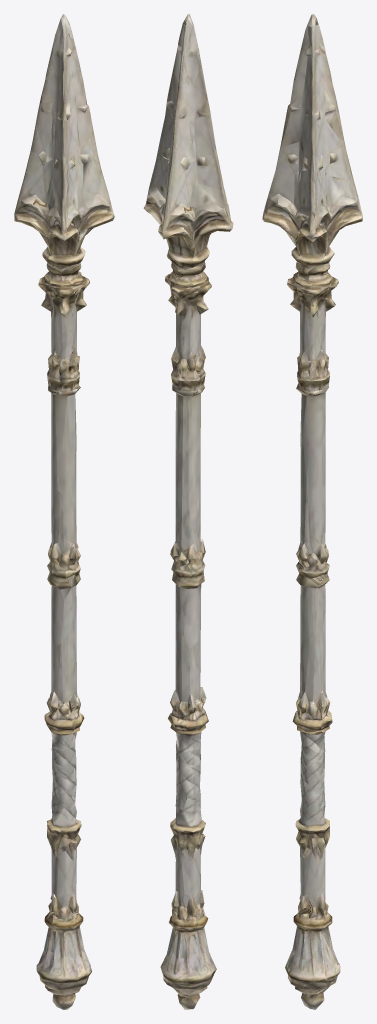
The model's file is lance-white.glb.
The picture shows the model from 3 angles, left to right: view 1: azimuth 90°, elevation 25°; view 2: azimuth 150°, elevation 25°; view 3: azimuth 270°, elevation 25°; orthographic projection.
Parts seen in each view (by area): view 1: Lance; view 2: Lance; view 3: Lance.
Boxes of the visible parts, x1=… form: Lance: x1=14, y1=14, x2=114, y2=1009; Lance: x1=143, y1=14, x2=233, y2=1009; Lance: x1=262, y1=14, x2=362, y2=1009.
Size of the model in its own units: 0.2435 by 2.7 by 0.2469.
Materials: 1 (1 with a texture image).
